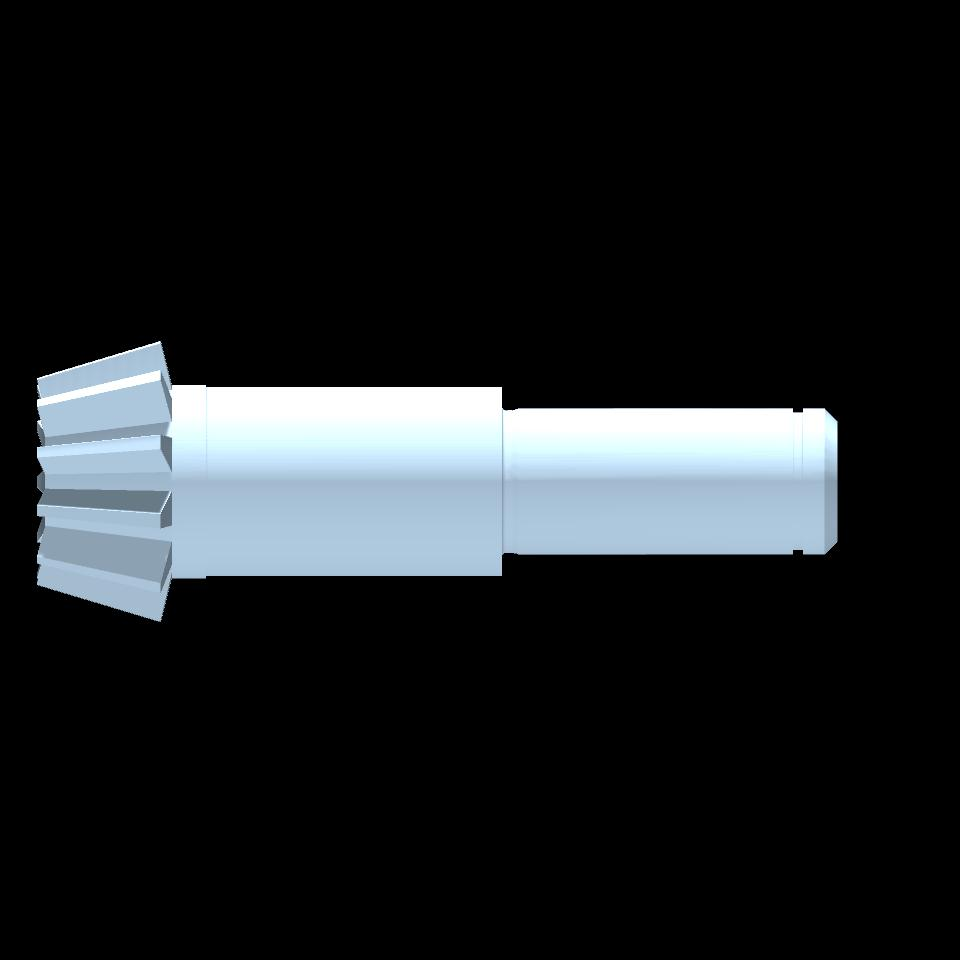Bevel: (36, 340, 173, 623)
